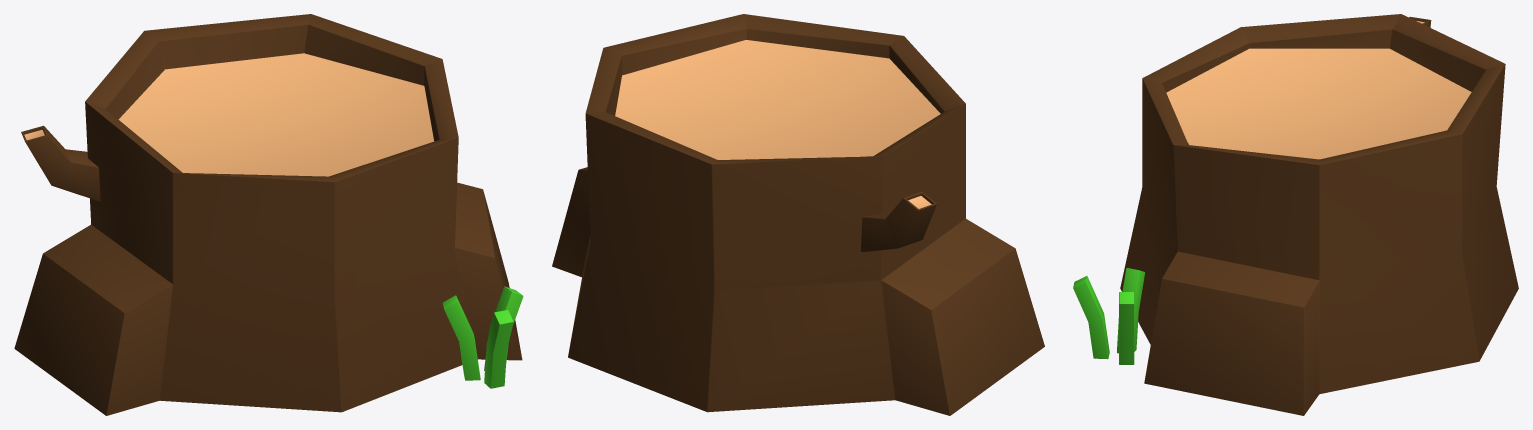
The model's file is Tronco_Arbol.fbx.
The picture shows the model from 3 angles, left to right: view 1: azimuth 30°, elevation 25°; view 2: azimuth 150°, elevation 25°; view 3: azimuth 270°, elevation 25°; orthographic projection. The views are drawn at different scales.
Visible parts, largest first — view 1: Tronco; view 2: Tronco; view 3: Tronco.
Part boxes in pixels (box(x1,y1,x2,y2)): Tronco: box(14, 14, 523, 415); Tronco: box(552, 14, 1044, 415); Tronco: box(1073, 14, 1518, 415).
Bounding box in the file's own units: 80.78 × 41.93 × 73.55.
